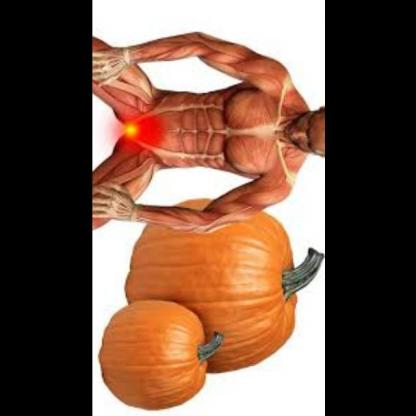pumpkin: (122, 196, 310, 376), (98, 296, 214, 413)
